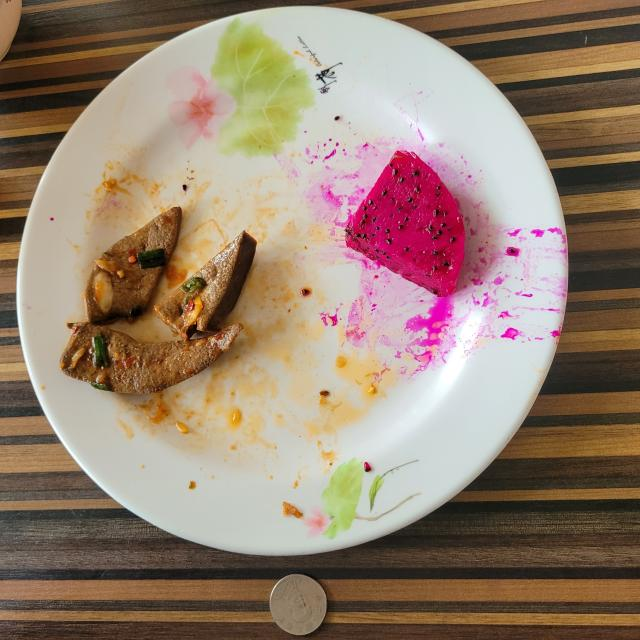coin: (270, 574, 328, 635)
pig liver: (60, 231, 256, 392), (85, 208, 181, 321)
